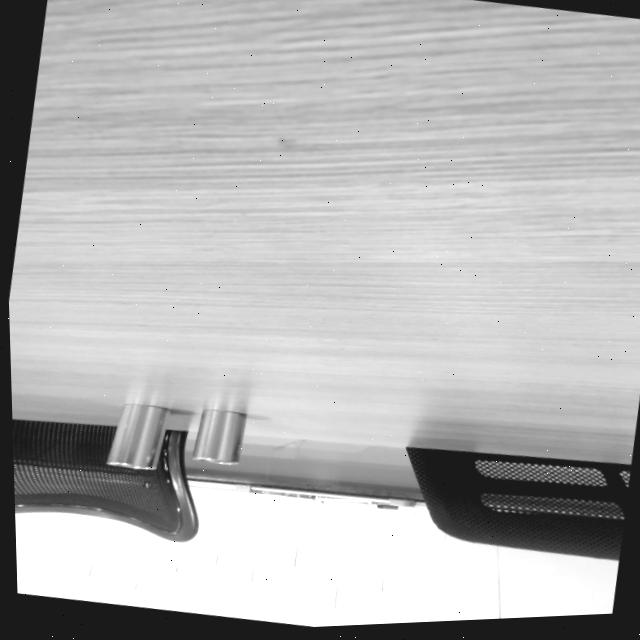Co_Lon: (105, 397, 170, 475)
Co_Nho: (191, 405, 246, 466)
